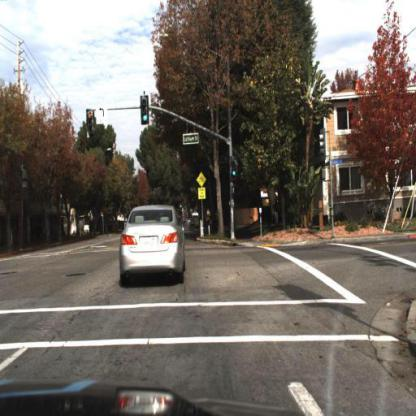car: (120, 203, 190, 283)
trafficLight: (141, 96, 152, 129)
trafficLight-Green: (230, 156, 242, 184)
trafficLight-RedLeft: (85, 108, 97, 142)
